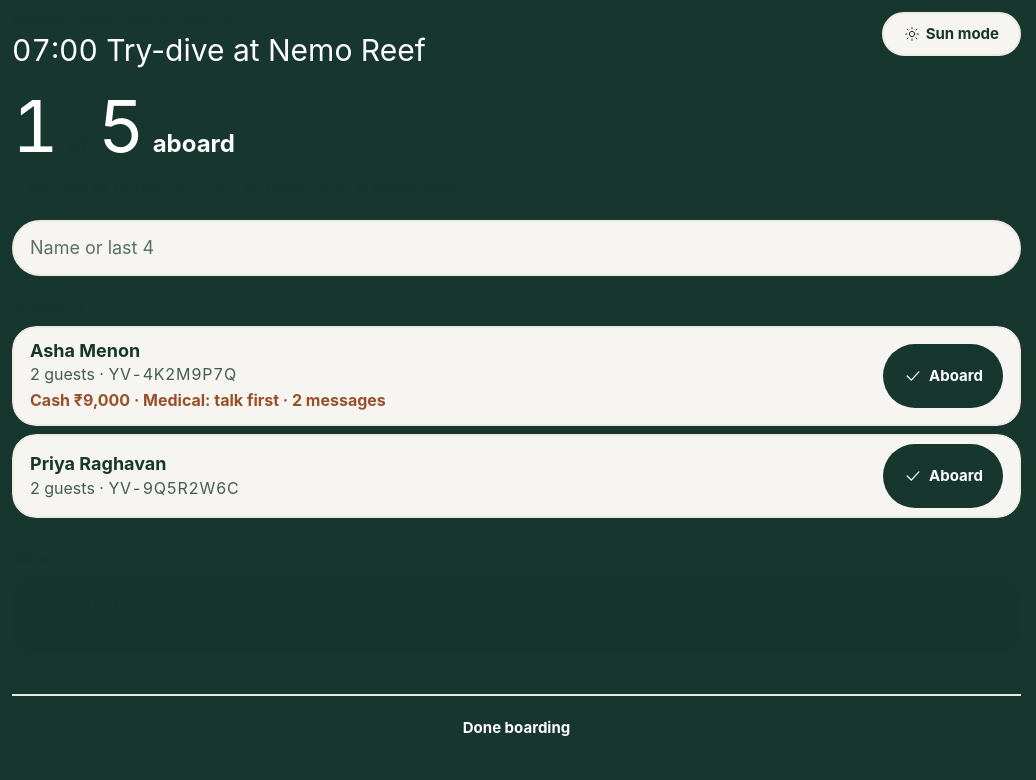
Test case: boarding › puts the row back, saying why, when nothing was recorded
Click the button with aria-label "Aboard: check in Asha Menon" at (943, 376), box [883,344,1003,408]
Wait 5000 ms
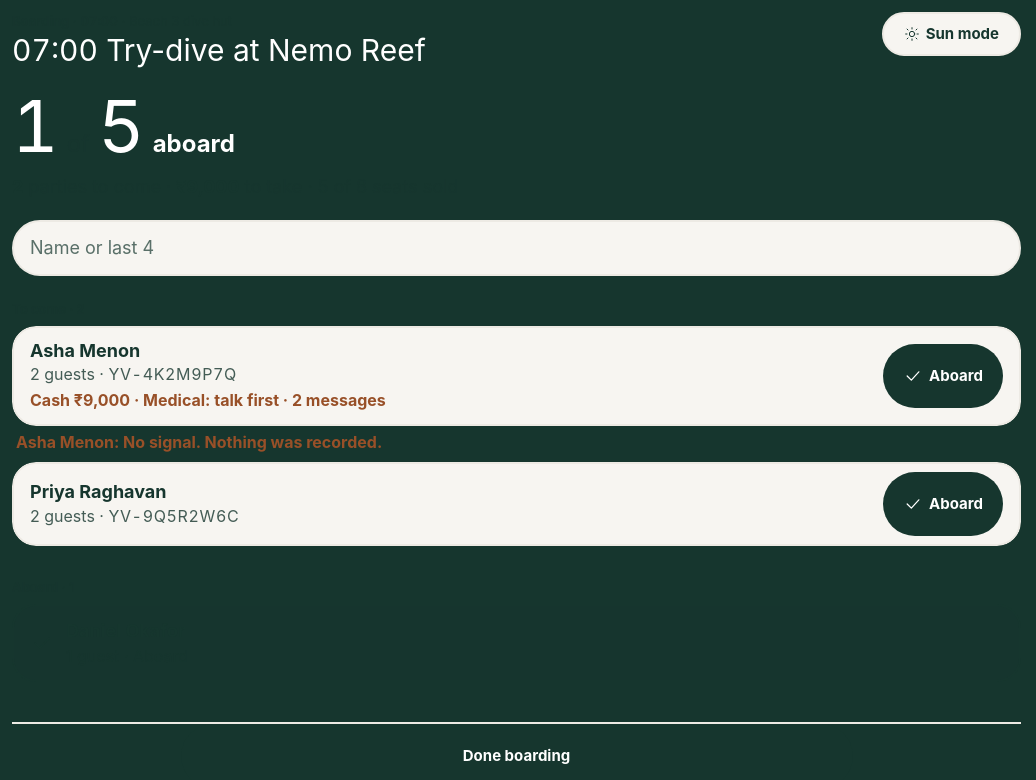
Expected: the element "To come · 2" shows "Asha Menon", [30,336,871,416]
Expected: the message reads "Asha Menon: No signal. Nothing was recorded.", [16,432,382,452]
